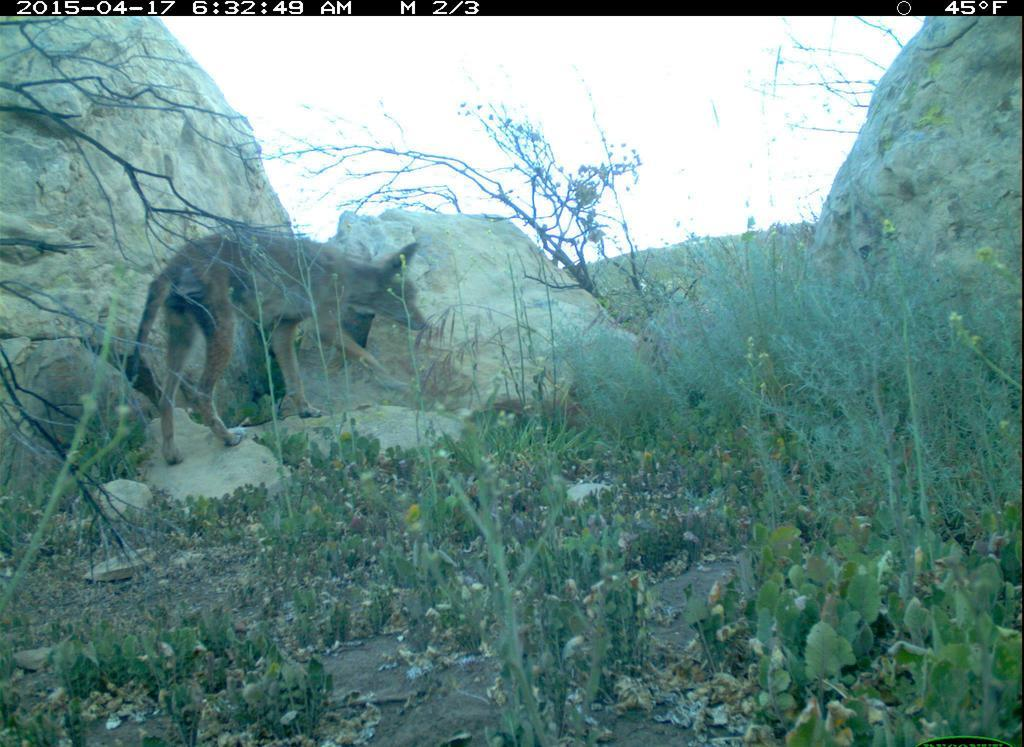coyote: (111, 217, 429, 475)
